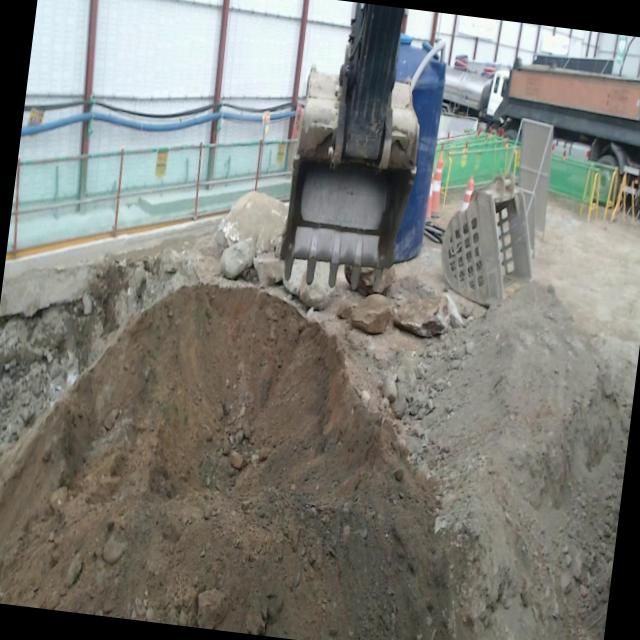red-sand: (0, 284, 449, 640)
stone: (215, 191, 287, 253), (393, 292, 463, 337), (348, 293, 391, 333), (219, 237, 254, 279), (253, 251, 283, 284)
white-sand: (411, 283, 631, 640)
